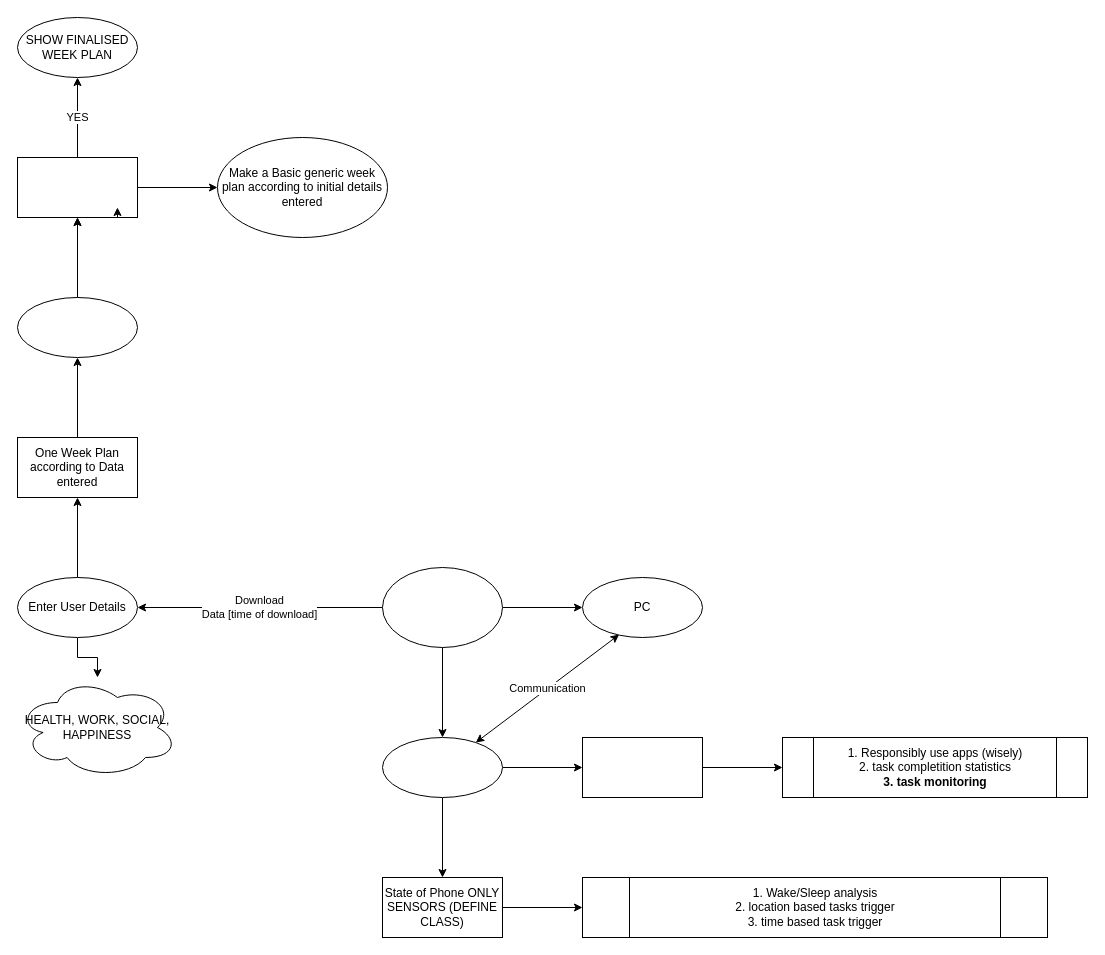
This 1105x955 diagram has some shape labels left out. Each missing label, with the centre of its shape:
CURRENT APP USAGE: the point at 642,767
Komplete: the point at 442,607
MOBILE/TABLET: the point at 442,767
prompt anything to add? TILES FOR SELECTING: the point at 77,187
Show Snippet of one week: the point at 77,327
